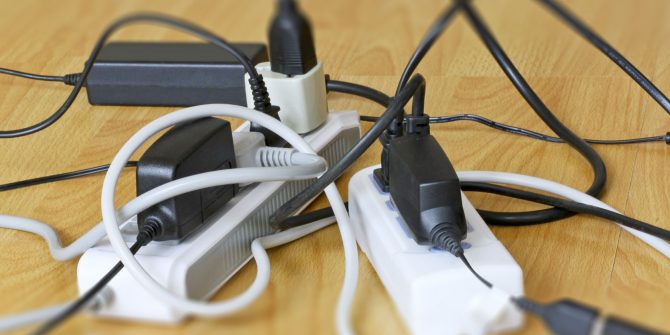Nonrec_Tangler: (19, 1, 644, 302)
